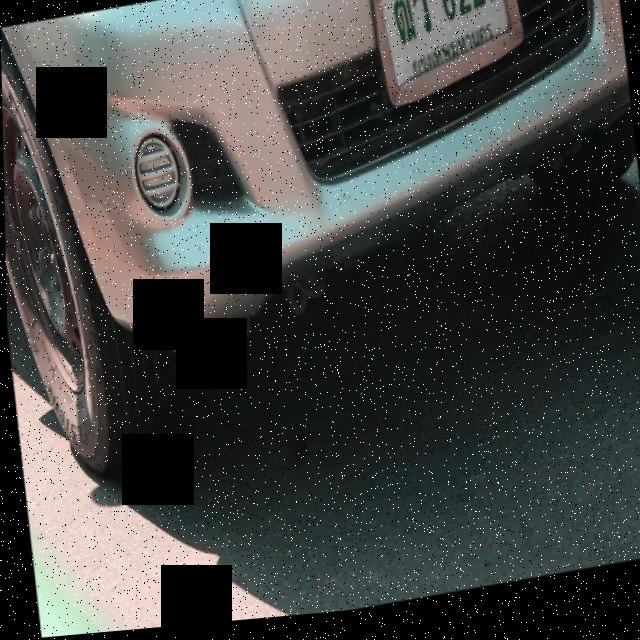text: (381, 0, 510, 93)
